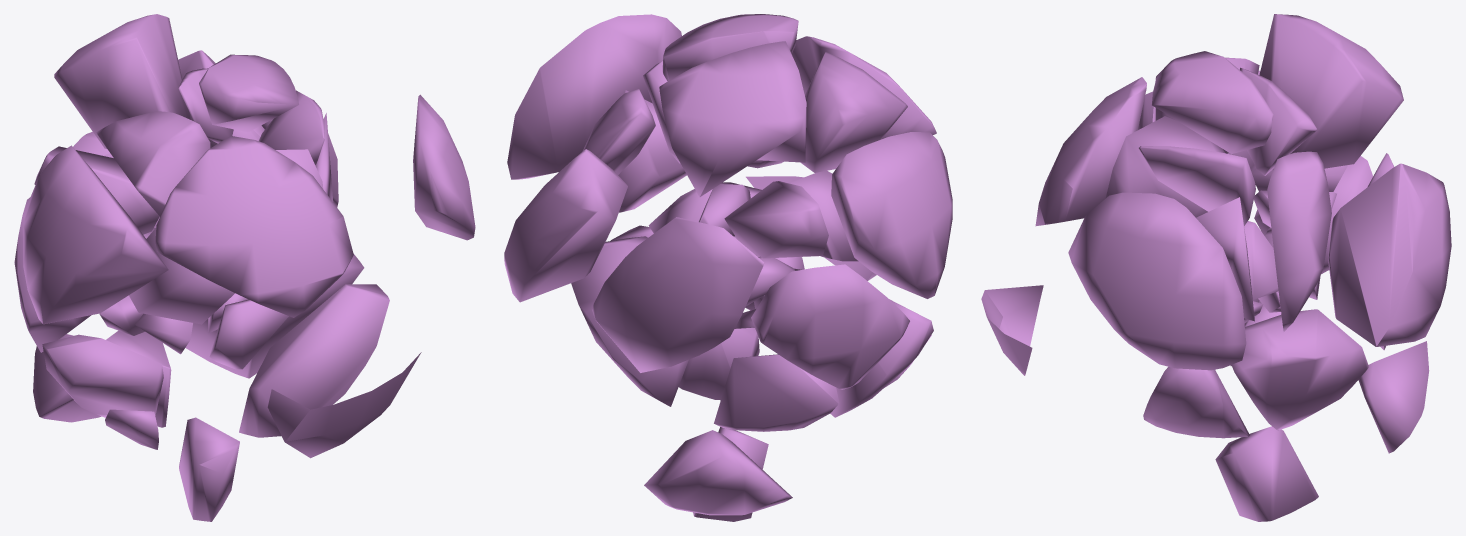
Rendered from abstractball1.glb.
3 renders of one model, left to right at view 1: azimuth 30°, elevation 25°; view 2: azimuth 150°, elevation 25°; view 3: azimuth 270°, elevation 25°, orthographic. The views are drawn at different scales.
Parts seen in each view (by area): view 1: Voronoi_Fracture.1; view 2: Voronoi_Fracture.1; view 3: Voronoi_Fracture.1.
Part boxes in pixels (x1,y1,x2,y2): Voronoi_Fracture.1: (14,14,475,521); Voronoi_Fracture.1: (504,14,952,521); Voronoi_Fracture.1: (981,14,1451,521).
Size of what is drawn, in the model's own units: 3.72 by 4.21 by 3.78.
Materials: 1 (1 with a texture image).
